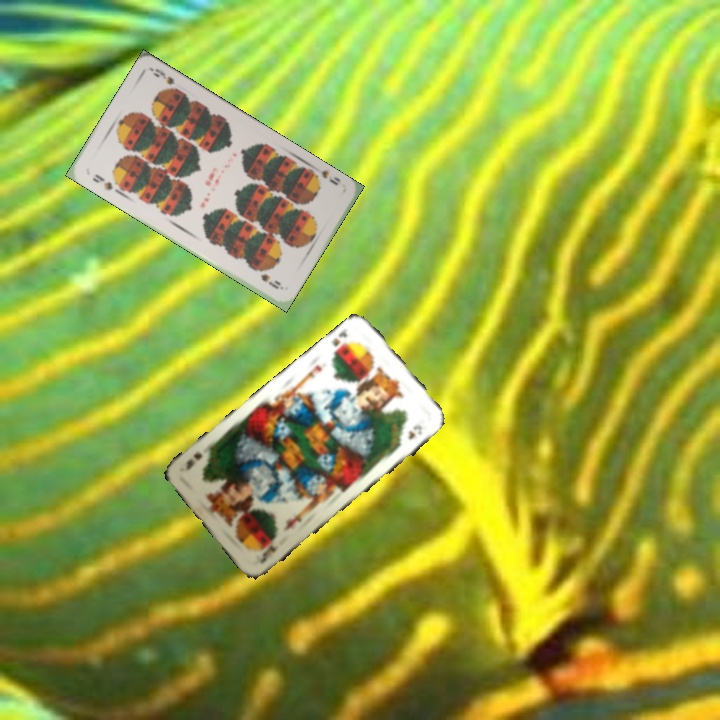S9: (308, 166, 343, 188), (88, 170, 116, 193)
SK: (328, 325, 354, 357), (257, 542, 281, 566)
